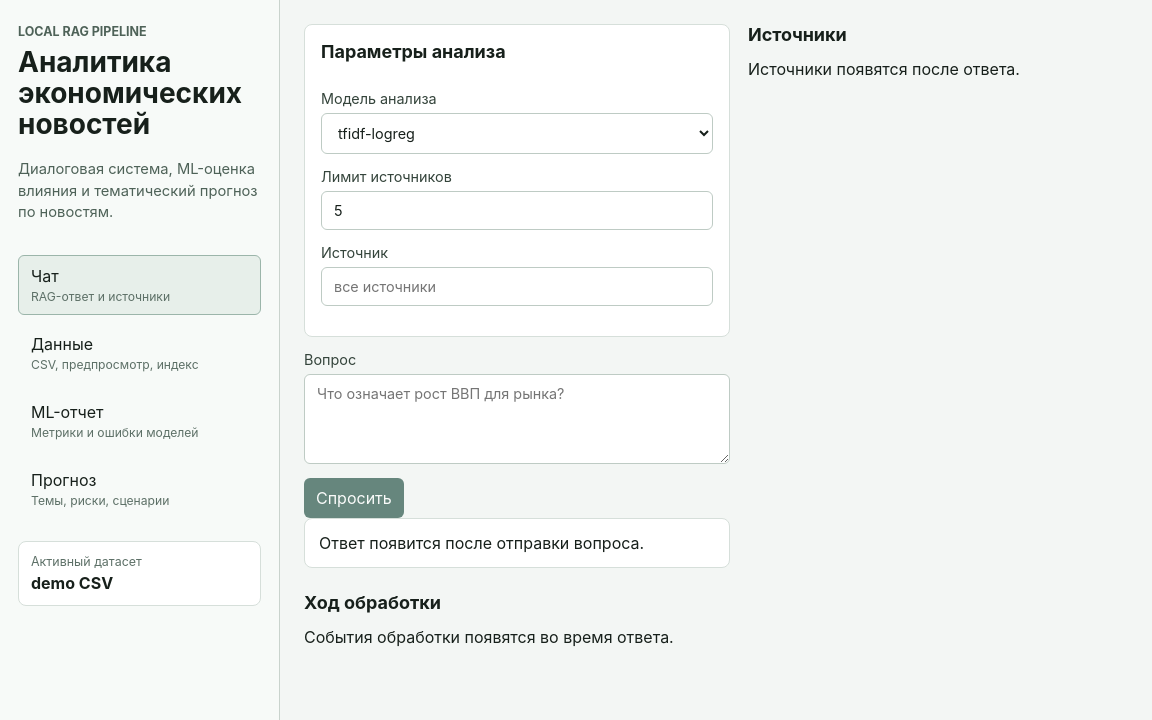
Test: App › renders source previews without full text while the stream is still running
This screenshot has width=1152, height=720.
Type "Что с ВВП?" into the text box labelled "Вопрос". click: (517,419)
box: [304,374,730,464]
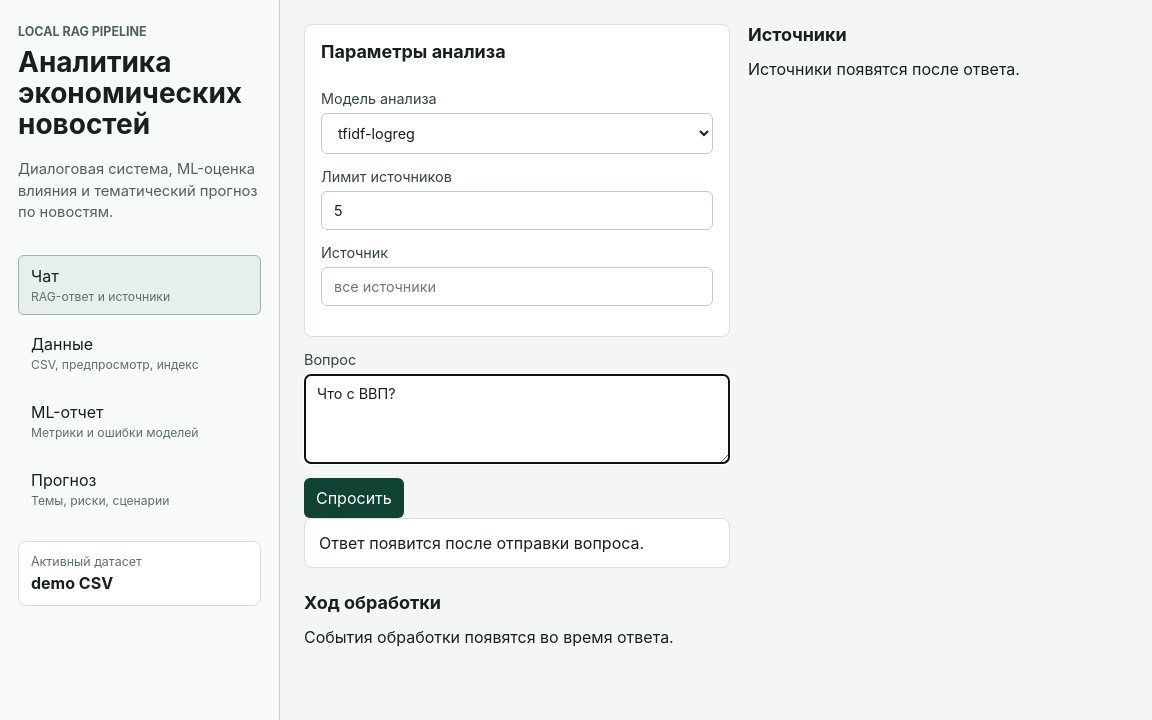
Click the button "Спросить". click: (354,498)
box: [304,478,404,518]
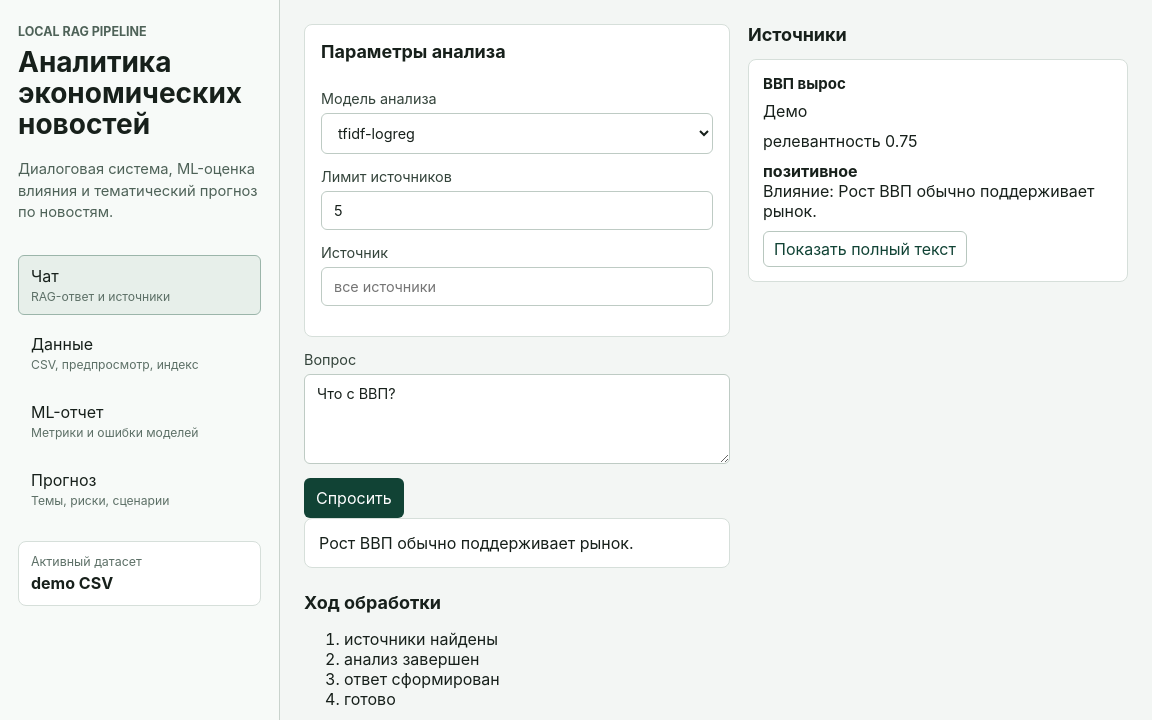
Result: the heading "ВВП вырос" is shown at [763,74,846,93]
Result: the text "позитивное" is shown at [763,161,858,181]
Result: the text "Рост ВВП обычно поддерживает рынок." is shown at [304,518,730,568]
